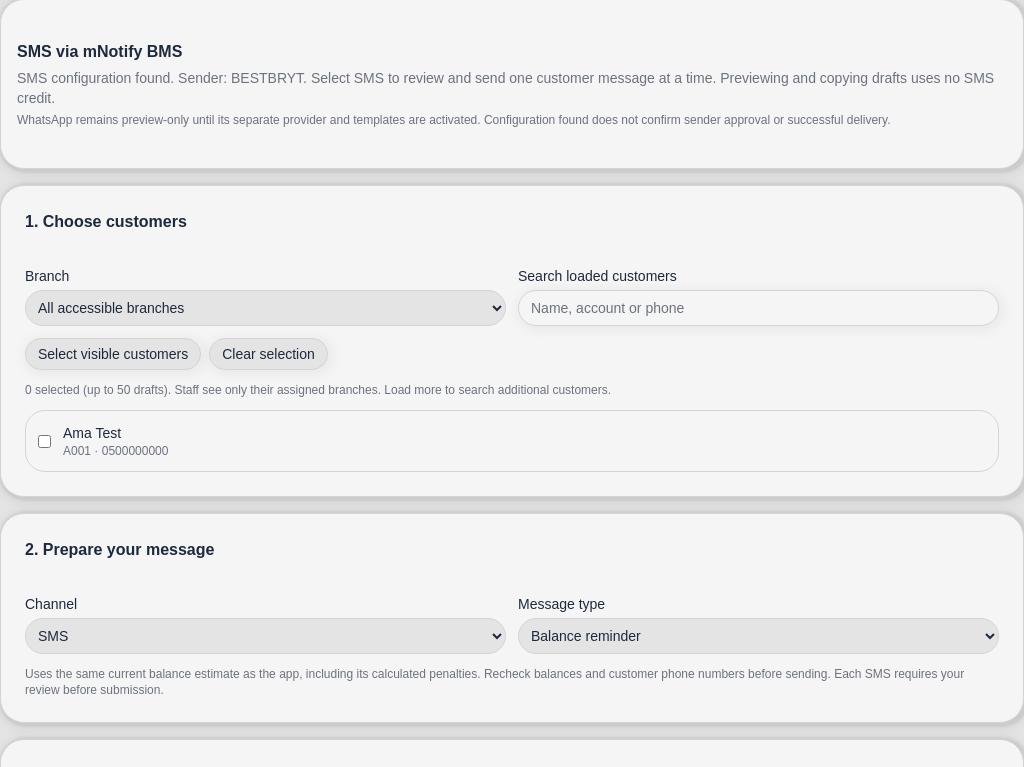
it: keeps WhatsApp preview-only
This screenshot has width=1024, height=767.
Click the checkbox: [44, 441] box [38,434,51,448]
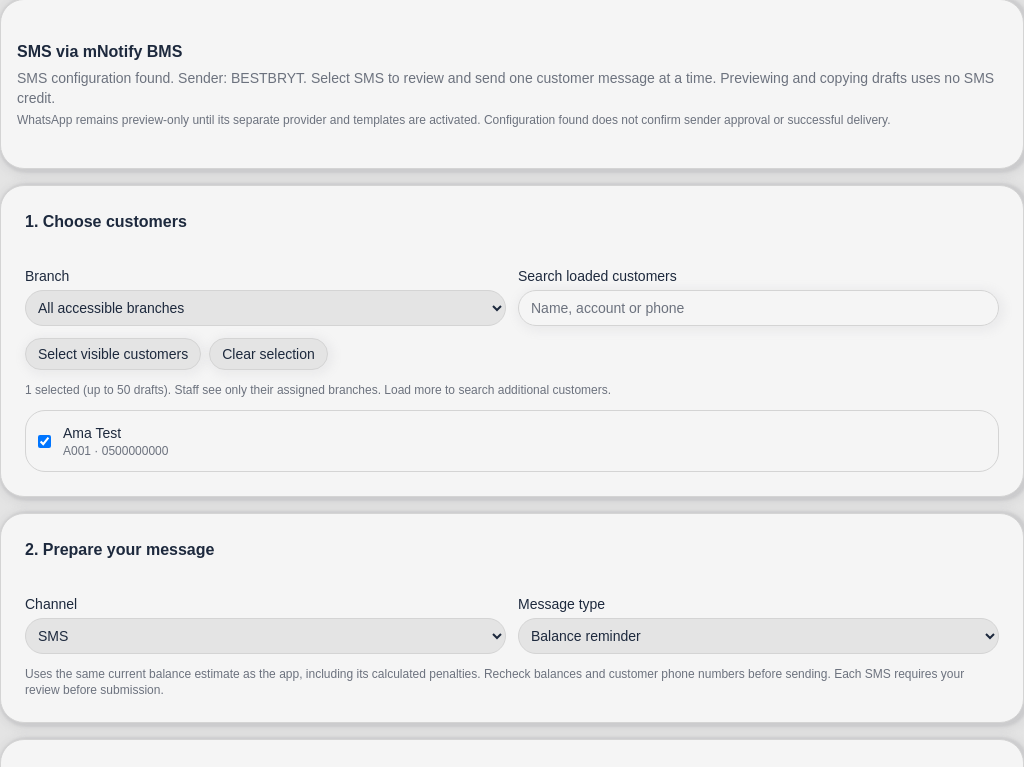
Select "SMS + WhatsApp" in the dropdown labelled "Channel": [266, 636] box [25,618,506,654]
(page scrolled)
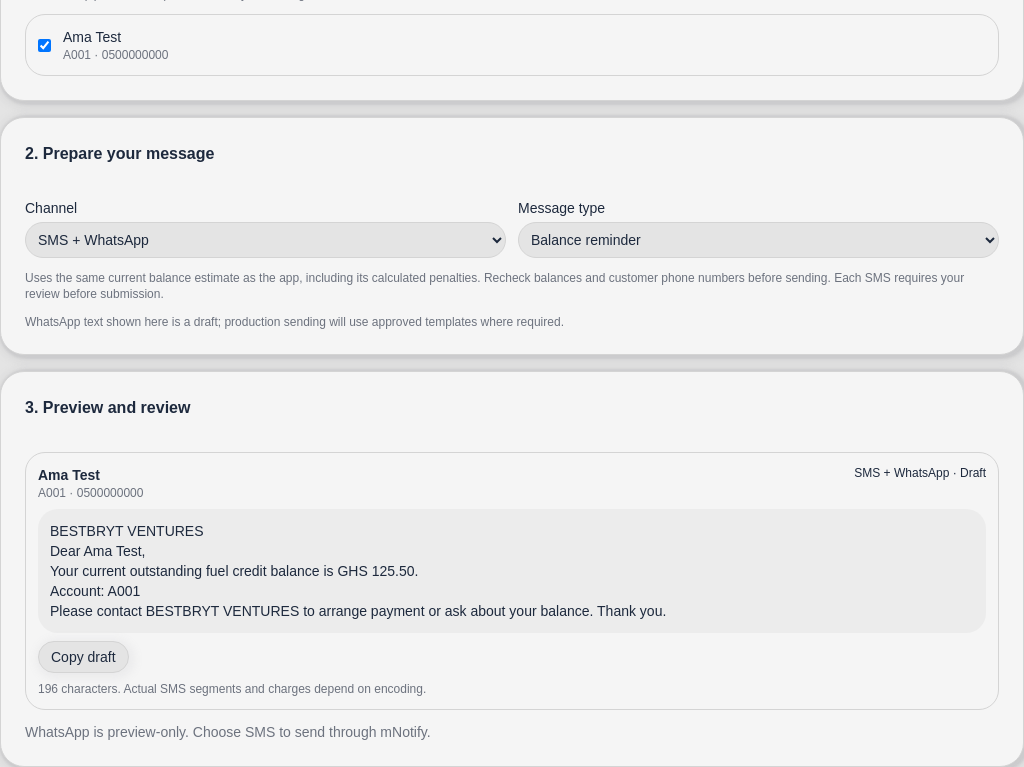
Now the text "SMS + WhatsApp · Draft" is shown, box [854,466,986,480]
